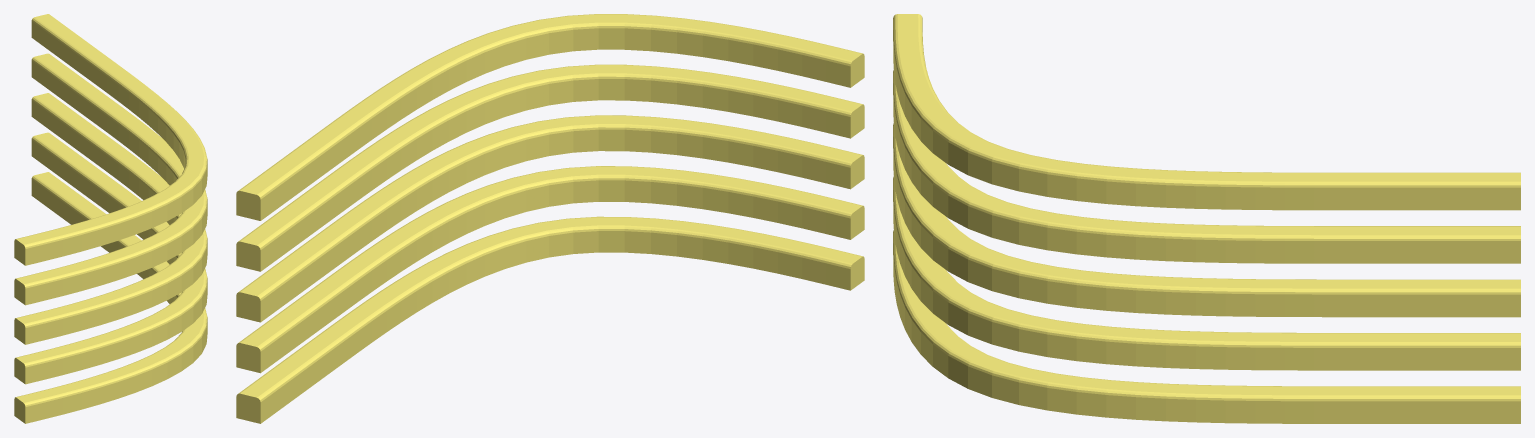
Rendered from CurvedFence.fbx.
3 renders of one model, left to right at view 1: azimuth 30°, elevation 25°; view 2: azimuth 150°, elevation 25°; view 3: azimuth 270°, elevation 25°, orthographic. The views are drawn at different scales.
Visible parts, largest first — view 1: CurvedFence; view 2: CurvedFence; view 3: CurvedFence.
Boxes of the visible parts, x1,y1,x2,y2 form: CurvedFence: (14,14,207,423); CurvedFence: (236,14,864,423); CurvedFence: (893,14,1520,423).
Bounding box in the file's own units: 89.94 × 59.38 × 141.
